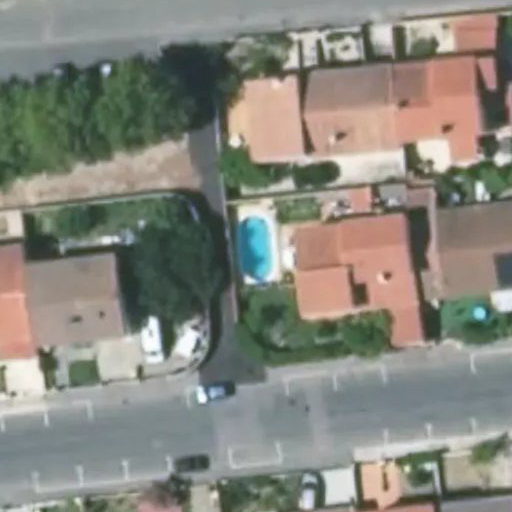pool: (239, 211, 276, 271)
